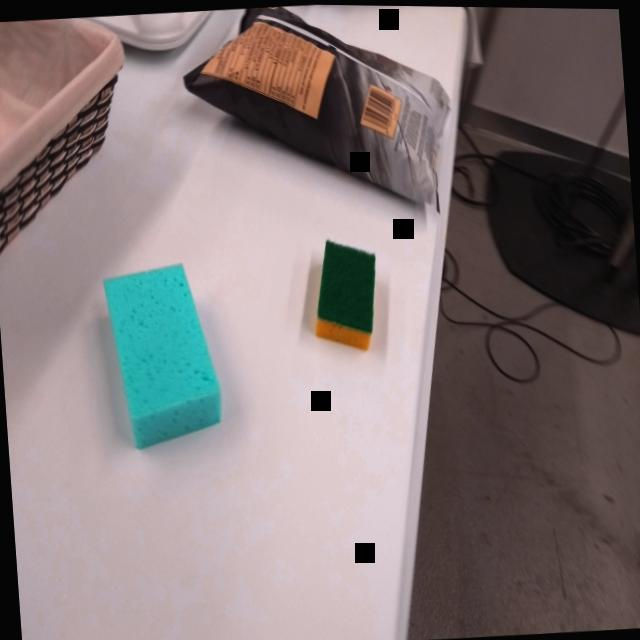potato_chips: (175, 2, 460, 227)
scrubby: (305, 232, 387, 356)
sponge_opl: (92, 254, 233, 455)
